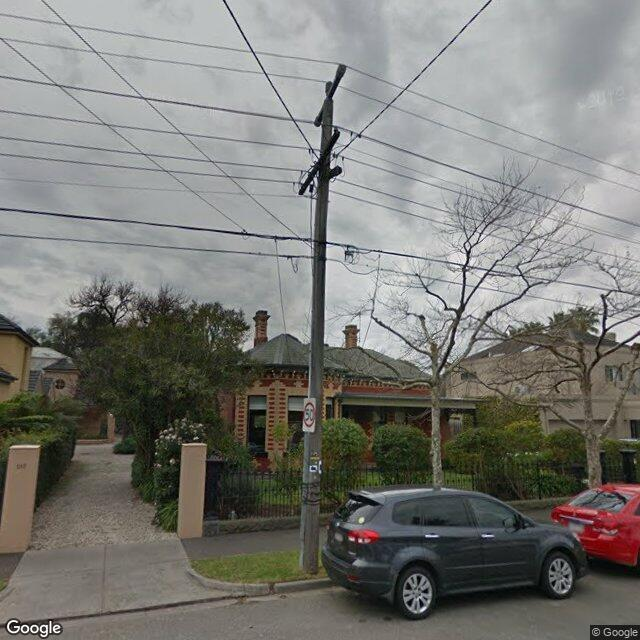HV-transmission: (314, 65, 346, 126)
crossarm: (299, 131, 340, 195), (316, 70, 342, 123)
timber-pole: (301, 99, 333, 575)
